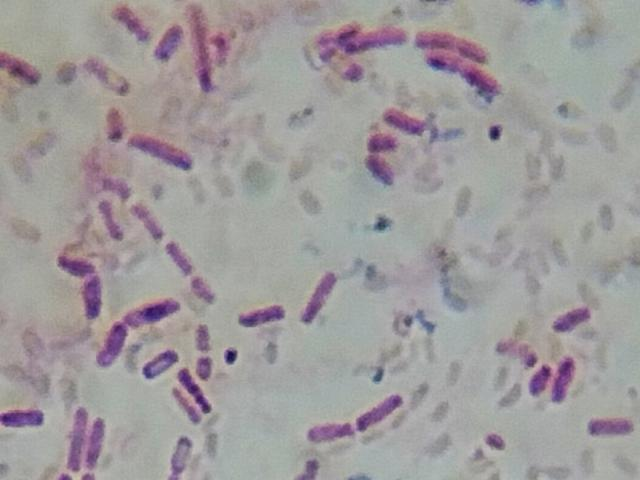E. coli: (188, 4, 222, 98), (132, 129, 198, 170), (434, 51, 499, 90), (179, 353, 218, 417), (300, 266, 339, 328), (419, 27, 496, 56), (127, 289, 179, 326), (353, 389, 400, 429), (90, 202, 128, 246), (238, 297, 285, 332), (0, 45, 41, 83), (142, 343, 183, 380), (64, 404, 88, 466), (97, 319, 126, 368), (85, 57, 124, 93), (0, 396, 40, 431), (555, 348, 579, 406), (151, 21, 182, 65), (589, 410, 630, 443), (172, 386, 199, 436), (307, 419, 352, 448), (344, 28, 411, 47), (550, 299, 589, 331), (130, 199, 162, 237), (85, 410, 104, 471), (117, 0, 146, 39), (164, 437, 192, 477), (82, 275, 106, 321), (486, 421, 515, 459), (385, 105, 422, 133), (53, 252, 92, 278), (529, 357, 554, 397), (168, 237, 194, 274), (324, 21, 364, 45), (369, 155, 394, 188), (192, 275, 218, 306), (104, 108, 128, 141), (364, 132, 400, 151), (193, 320, 214, 351), (302, 458, 321, 480)
